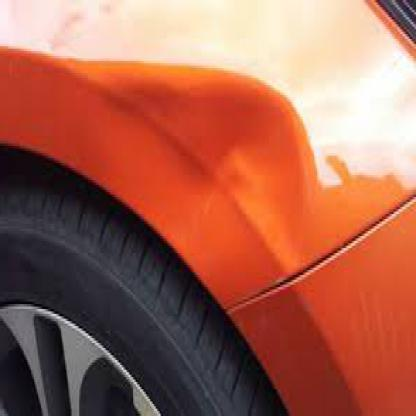dent: (173, 63, 326, 209)
